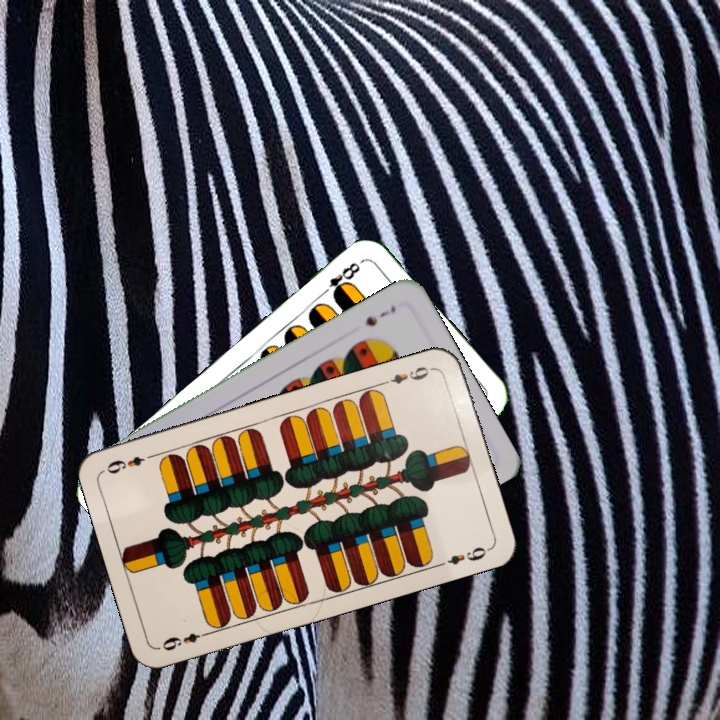E8: (316, 256, 365, 301)
E9: (379, 362, 437, 388), (158, 627, 213, 654)
S7: (361, 301, 399, 329)
